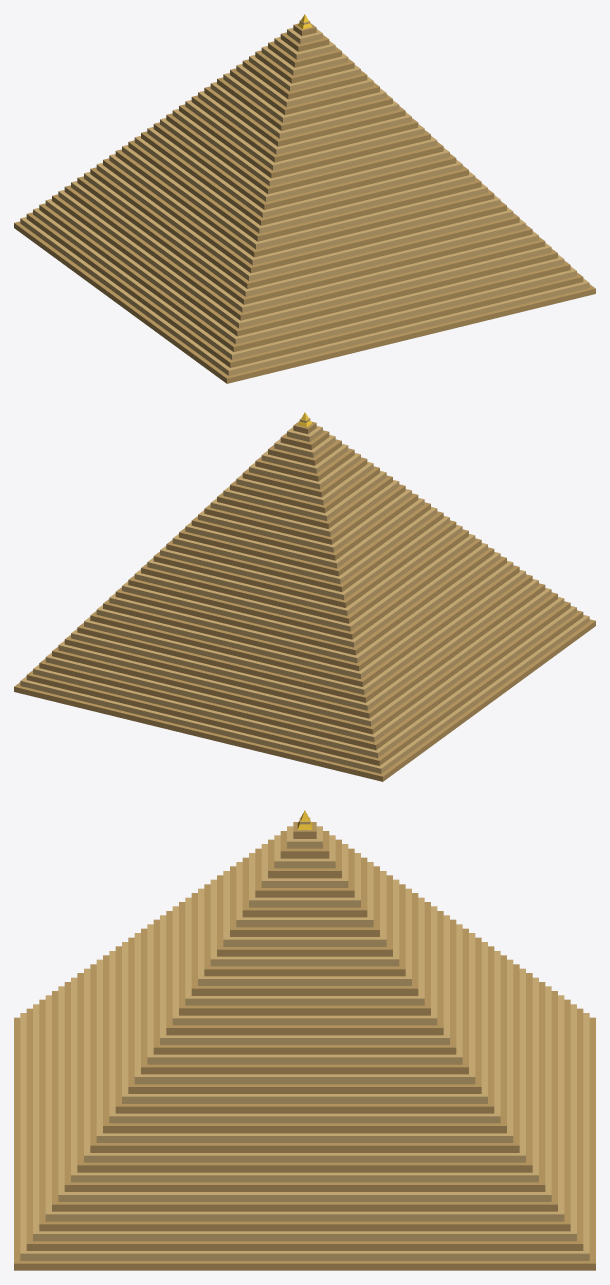
File: city_egypt.glb
3 views of the same model, one above another, from view 1: azimuth 30°, elevation 25°; view 2: azimuth 150°, elevation 25°; view 3: azimuth 270°, elevation 25° (orthographic). The views are drawn at different scales.
Parts seen in each view (by area): view 1: P_pyramid; view 2: P_pyramid; view 3: P_pyramid.
Part boxes in pixels (box(x1,y1,x2,y2)): P_pyramid: box(14, 14, 595, 383); P_pyramid: box(14, 412, 595, 781); P_pyramid: box(14, 810, 595, 1270).
Size of the model in its own units: 225 by 144 by 225.
